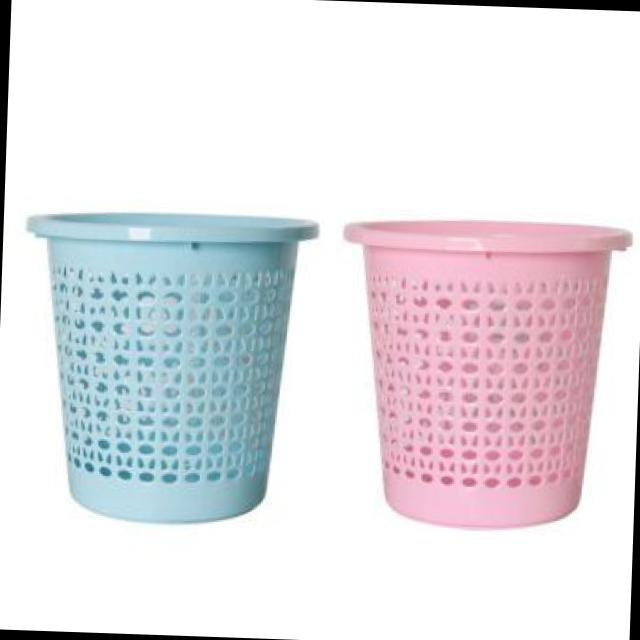dustbin: (8, 199, 329, 532)
